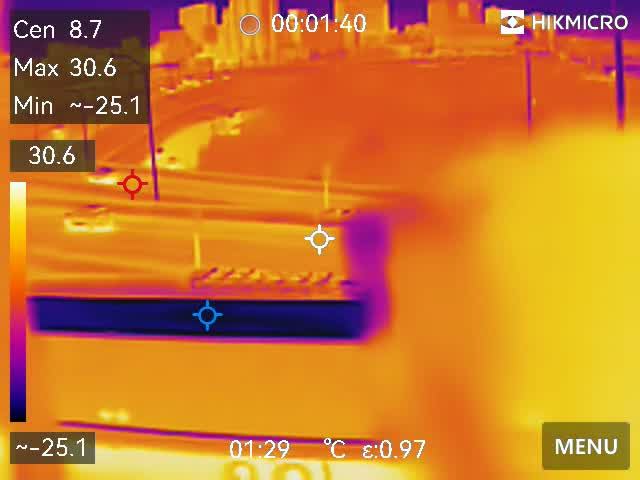heavyTruck: (20, 286, 396, 464)
vehicle: (57, 205, 122, 232), (84, 164, 124, 190)
